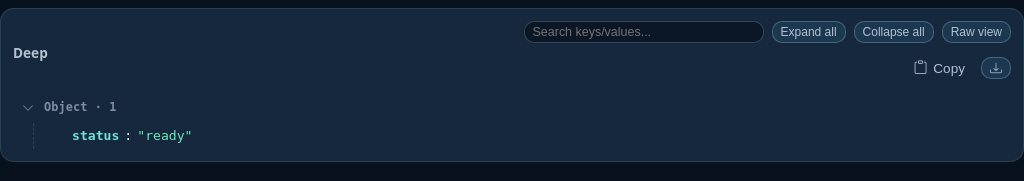
Test: JSON tree controls › keeps the raw/tree view switch functional
Expected: the element with class "tree-view" is shown, x1=13 y1=93 x2=1011 y2=149
Click the button with class "toolbar-btn" showing "Raw view" at {"x": 976, "y": 32}, box x1=942 y1=21 x2=1011 y2=43
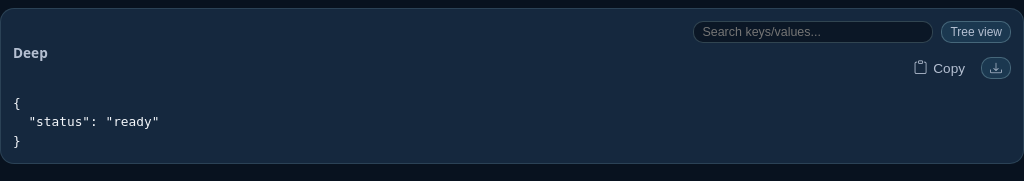
Now the element with class "tree-view" is gone
Now the text "\"status\": \"ready\"" is shown, box x1=13 y1=95 x2=159 y2=148
Click the button with class "toolbar-btn" showing "Tree view" at {"x": 976, "y": 32}, box x1=941 y1=21 x2=1011 y2=43
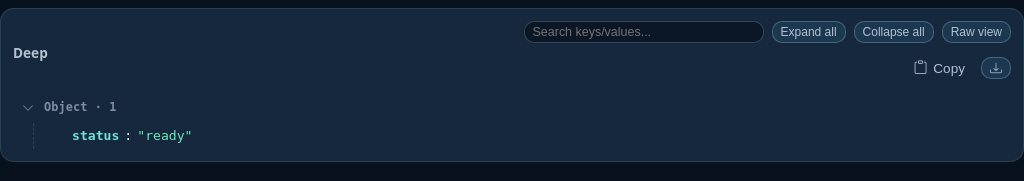
Now the element with class "tree-view" is shown, box x1=13 y1=93 x2=1011 y2=149
